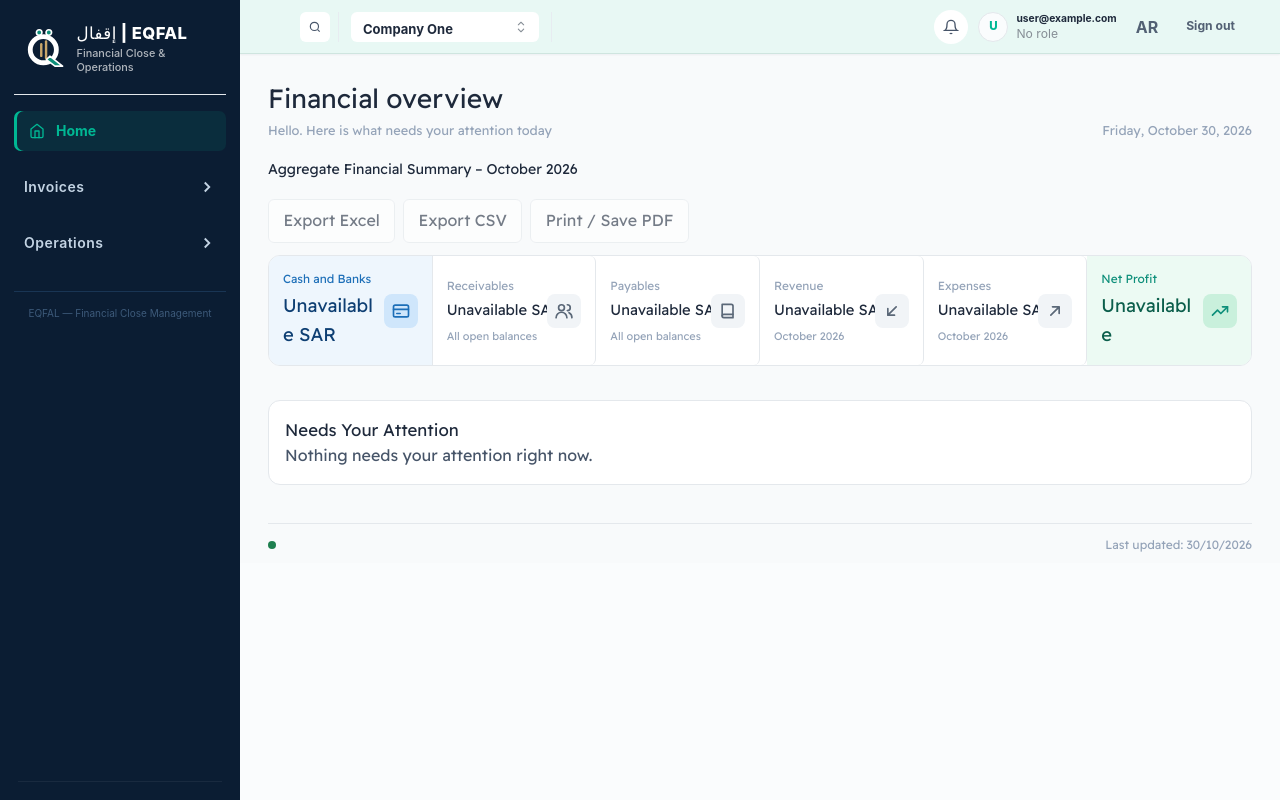
it: authenticated application shell › collapsible groups › places Sales and Purchases under Invoices with invoice labels
Click the button "Invoices".
click(120, 187)  # box [14,167,226,207]
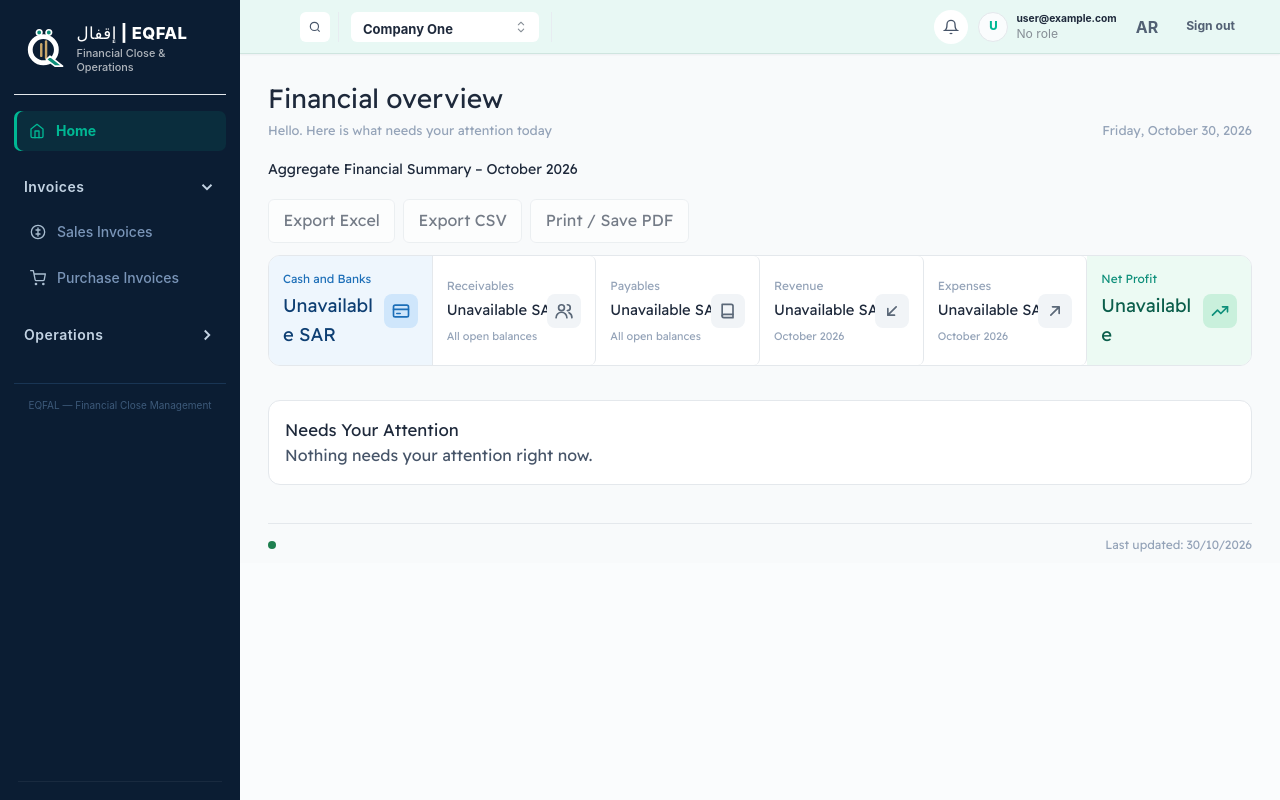
Check: the button "Invoices" is expanded, box [14,167,226,207]
Check: the button "Sales Invoices" is shown, box [14,211,226,253]
Check: the button "Purchase Invoices" is shown, box [14,257,226,299]
